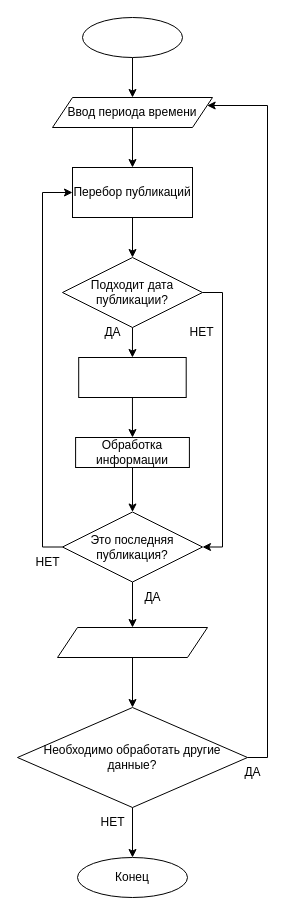
Some shapes in this 293 by 915 pixel diagram are drawn without their labels. The shapes that lost their labels are listed below. From the top down, each one's centre as x and y in pixels, then its label:
At point (132, 37): "Начало".
At point (132, 377): "Сбор данных с публикации".
At point (132, 642): "Вывод статистики".
